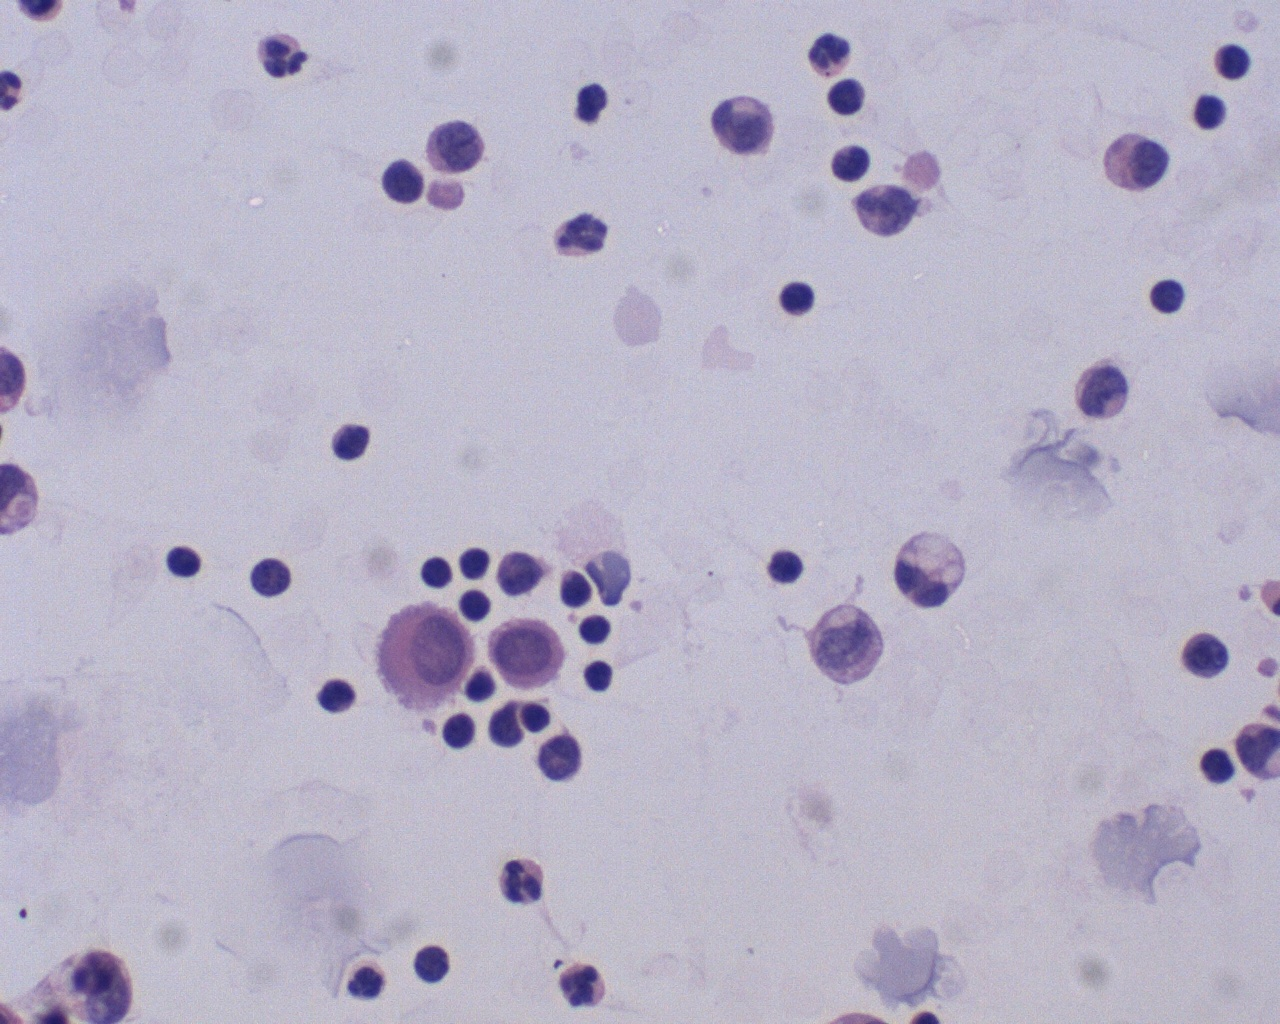ab: (372, 597, 482, 720), (484, 616, 571, 695), (423, 111, 493, 176)
histo: (885, 521, 967, 609)
lymph: (319, 413, 383, 472), (246, 553, 300, 604), (779, 271, 829, 320), (311, 673, 362, 716), (158, 537, 205, 581), (1148, 273, 1195, 317), (1187, 93, 1235, 135), (766, 542, 811, 586), (412, 551, 457, 594), (577, 610, 616, 648)
meso: (1099, 127, 1173, 197)
neutro: (496, 851, 561, 911), (551, 956, 616, 1014), (253, 29, 311, 83), (339, 956, 396, 1006), (806, 28, 858, 80)
